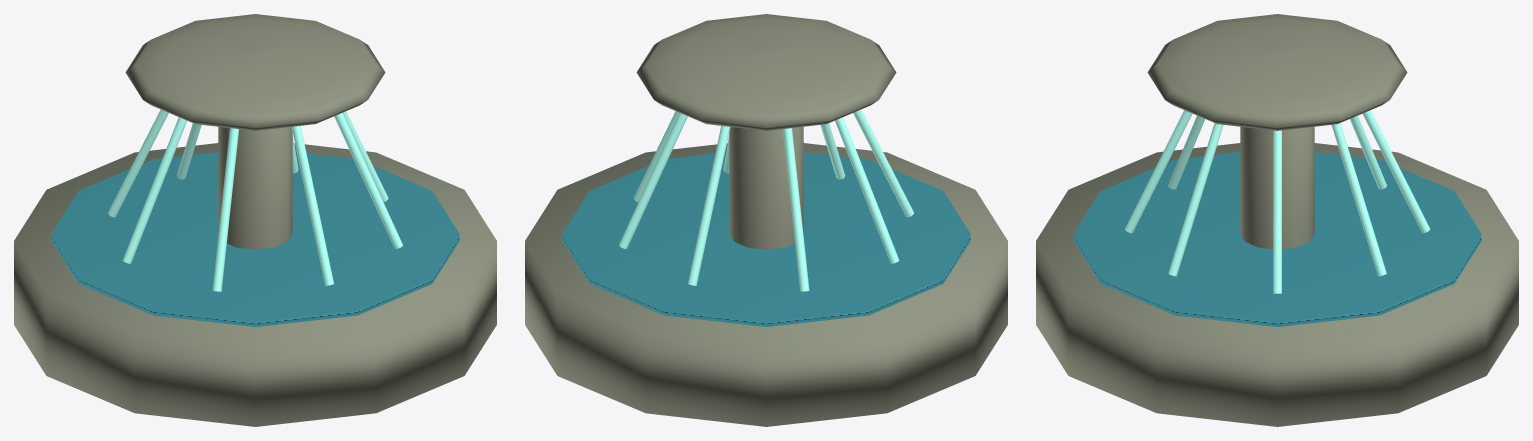
File: fountain.glb
3 renders of one model, left to right at view 1: azimuth 30°, elevation 25°; view 2: azimuth 150°, elevation 25°; view 3: azimuth 270°, elevation 25°, orthographic.
Parts seen in each view (by area): view 1: basin, water, bowl, water_jet (×7), column; view 2: basin, water, bowl, water_jet (×7), column; view 3: basin, water, bowl, water_jet (×7), column.
Part boxes in pixels (bbox=[...]): basin: bbox=[14, 143, 496, 426]; water: bbox=[51, 152, 459, 326]; bowl: bbox=[125, 14, 385, 130]; water_jet (×7): bbox=[108, 109, 402, 291]; column: bbox=[218, 126, 292, 249]; basin: bbox=[525, 143, 1007, 426]; water: bbox=[562, 152, 970, 326]; bowl: bbox=[636, 14, 896, 130]; water_jet (×7): bbox=[619, 109, 913, 291]; column: bbox=[729, 126, 803, 249]; basin: bbox=[1036, 143, 1518, 426]; water: bbox=[1073, 152, 1481, 326]; bowl: bbox=[1147, 14, 1407, 130]; water_jet (×7): bbox=[1125, 110, 1429, 293]; column: bbox=[1240, 126, 1314, 249].
Size of the model in its own units: 2.6 by 1.62 by 2.6.
